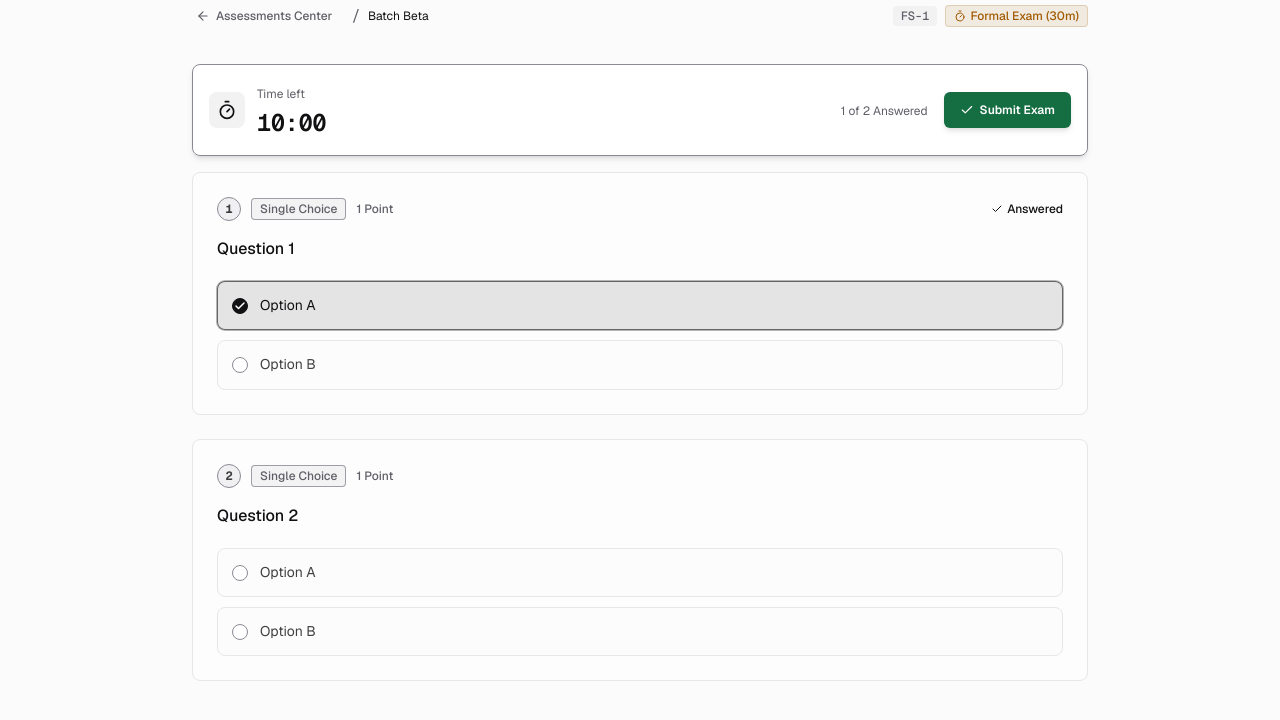
it: Formal assessment: final-submission confirmation › Return to Questions and Escape both close it without submitting
This screenshot has width=1280, height=720.
Step 1. Click the button "Submit Exam" → (1007, 110), box [944, 92, 1071, 128]
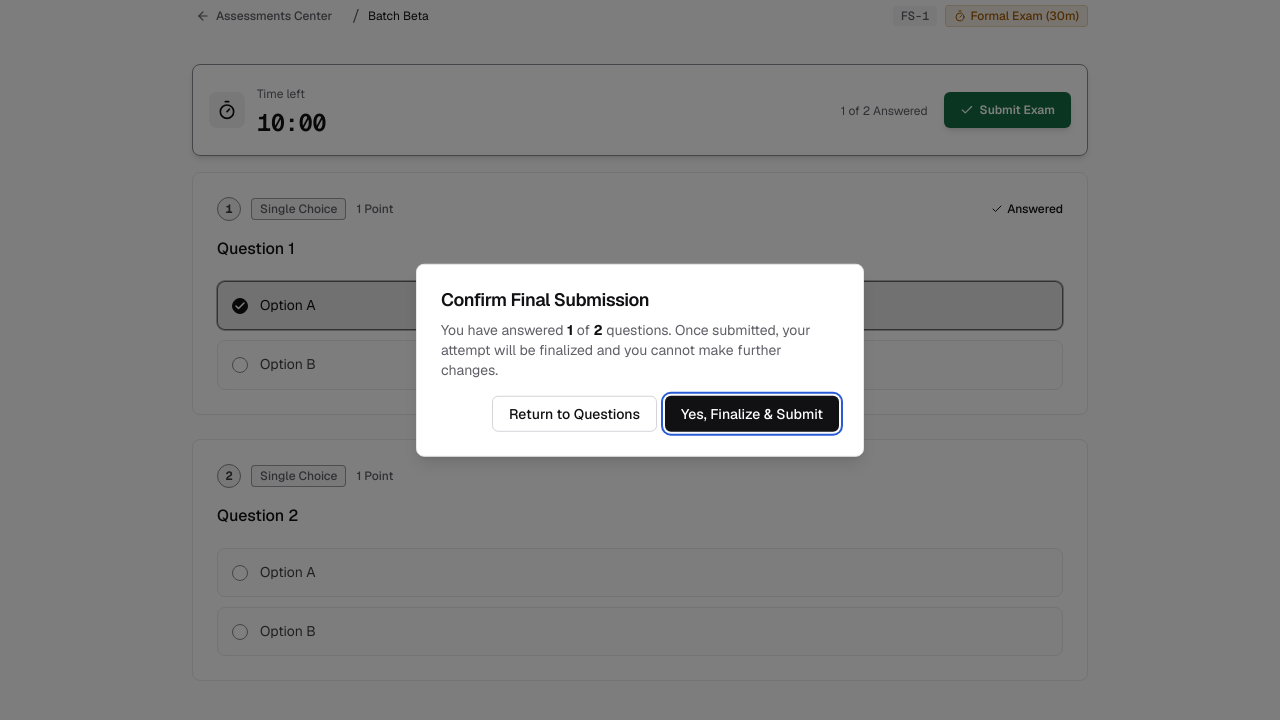
Step 2. Click the button "Return to Questions" → (574, 413), box [492, 395, 657, 431]
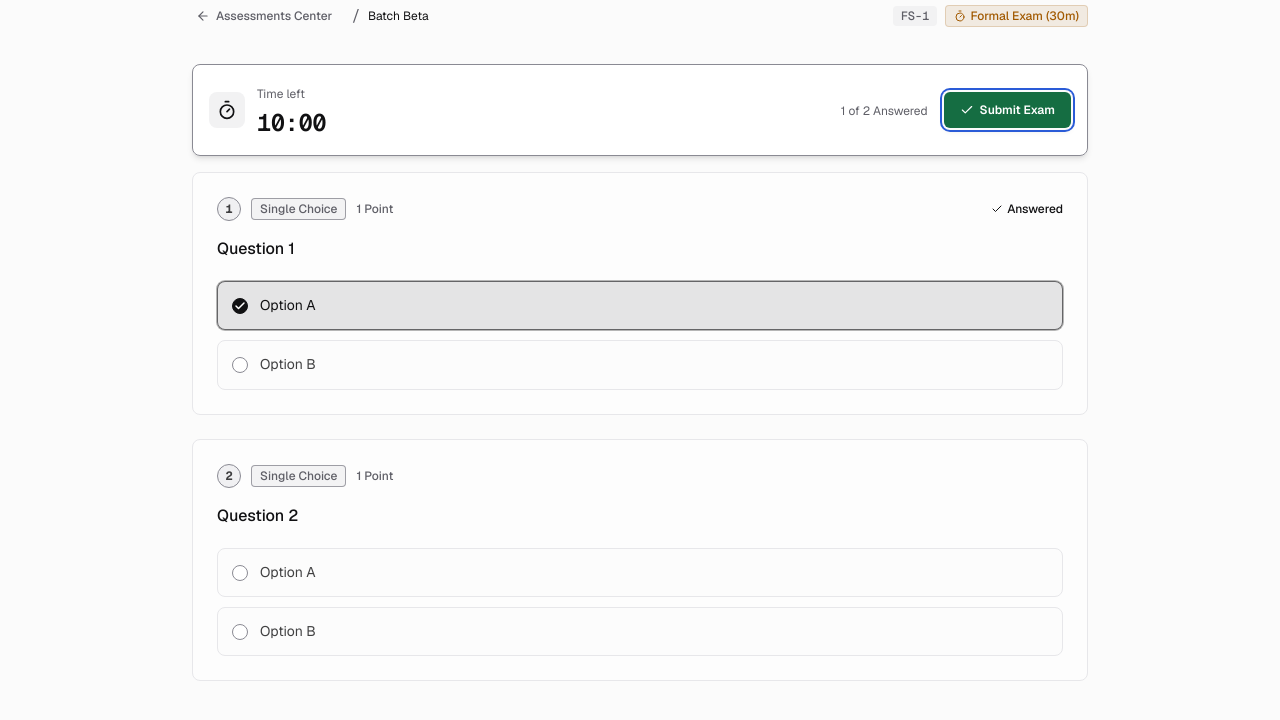
expect the dialog is gone: met
Step 3. Click the button "Submit Exam" → (1007, 110), box [944, 92, 1071, 128]
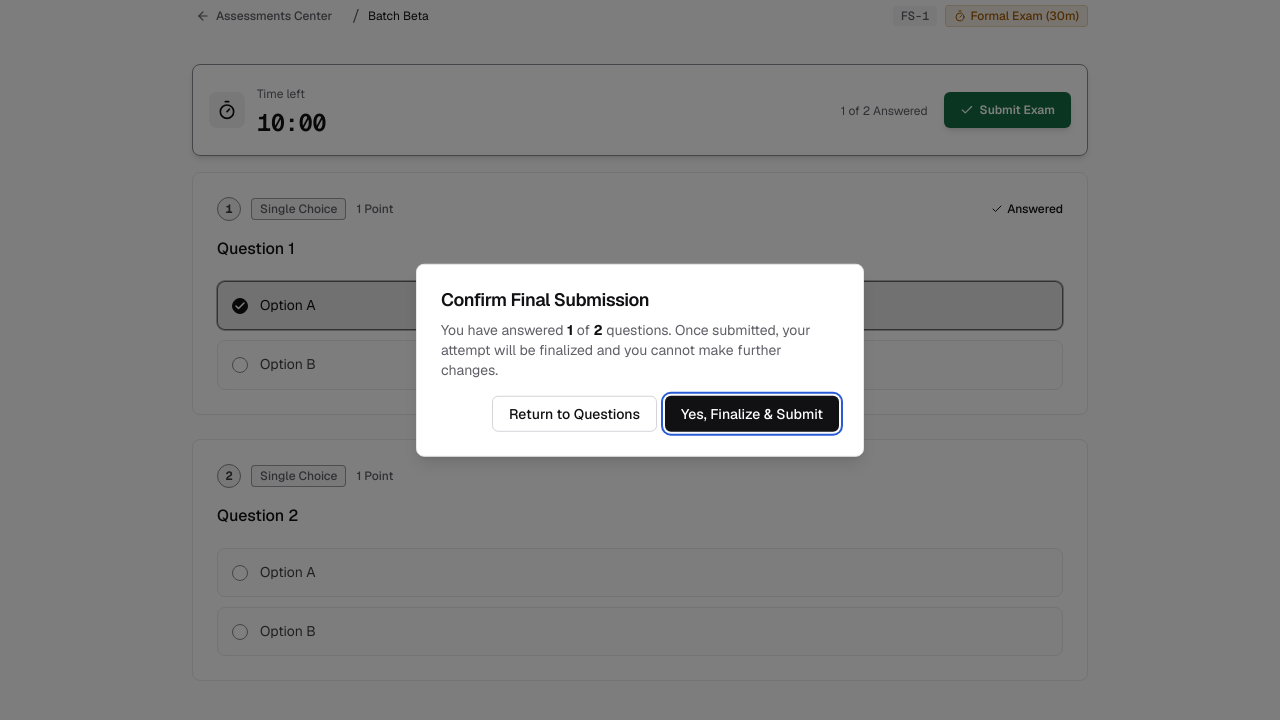
Step 4. Press Escape
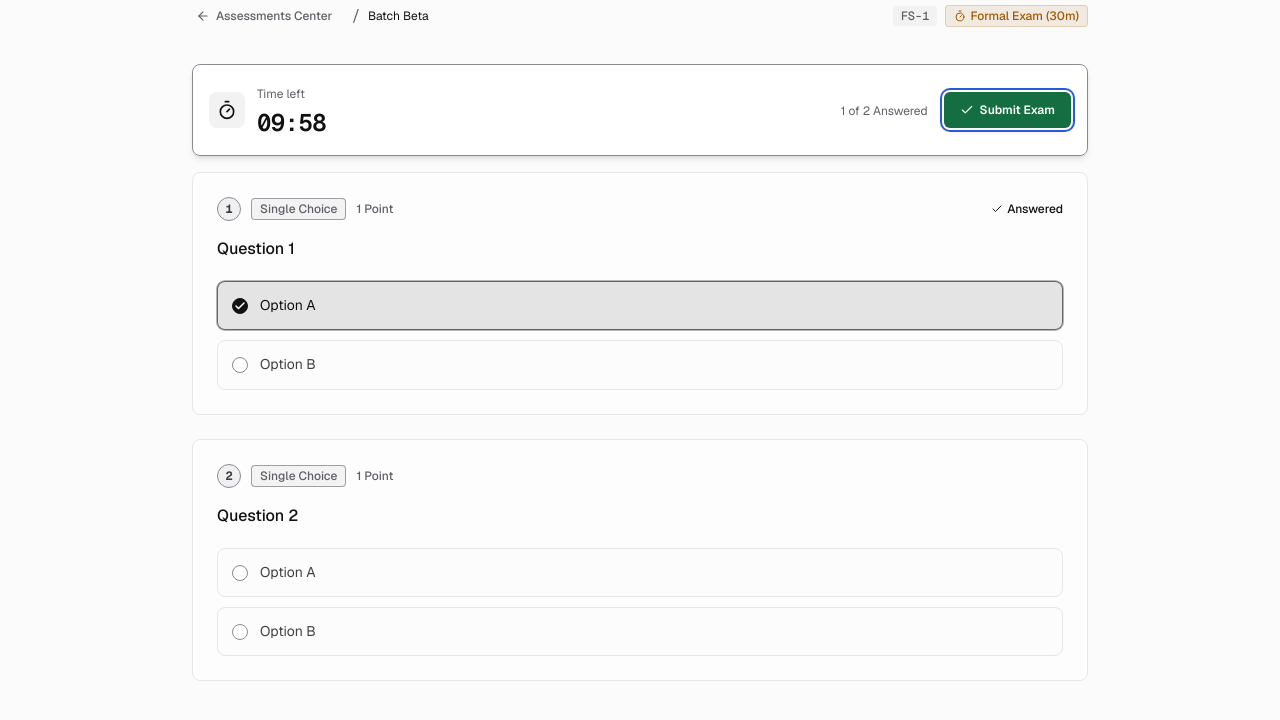
expect the dialog is gone: met
